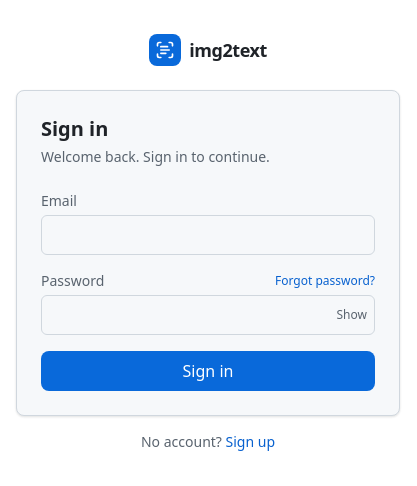
Test case: login shows server detail error
Click the button with test id "btn-login". click: click(208, 371)
box: [41,351,375,391]
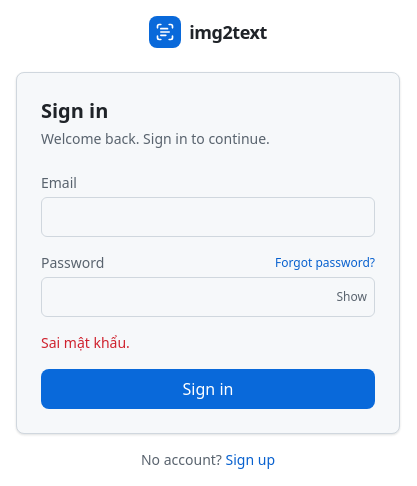
Expected: the text "Sai mật khẩu." is shown, [41,333,130,352]
